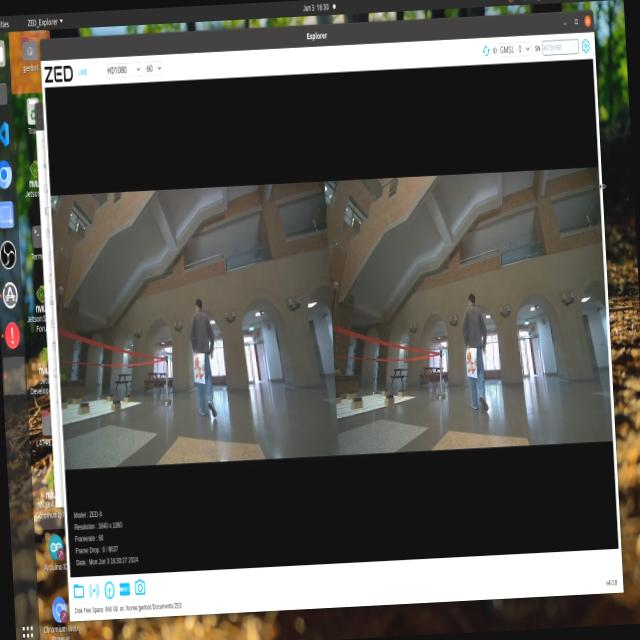red: (190, 348, 210, 388), (463, 348, 479, 384)
